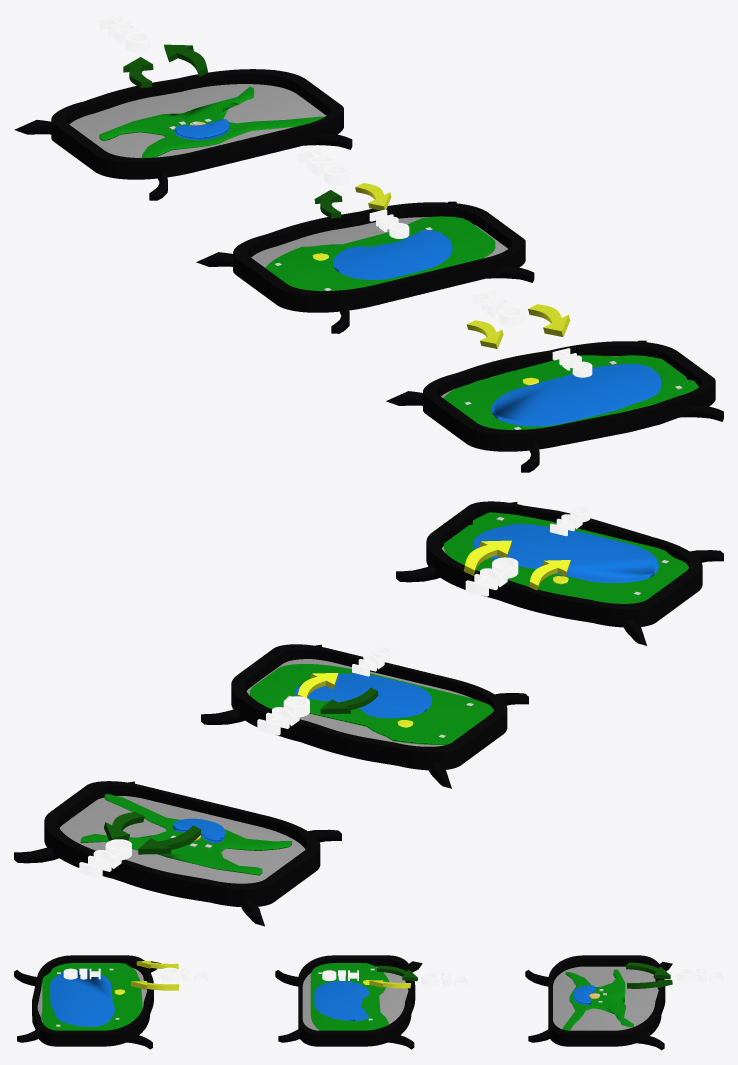
Rendered from plantcell.gltf.
3 renders of one model, top to bottom at view 1: azimuth 30°, elevation 25°; view 2: azimuth 150°, elevation 25°; view 3: azimuth 270°, elevation 25°, orthographic. The views are drawn at different scales.
Visible parts, largest first — view 1: Base, Base.001, Base.002, Base 2, Blue.002, Green.001, Green.002, Green, Blue, Base 2.002, Text, Text.001 (+4 smaller); view 2: Base, Base.001, Base.002, Base 2, Green.001, Blue.002, Green.002, Green, Blue, Base 2.002, Text.004, Text.001 (+8 smaller); view 3: Base 2, Base, Base.002, Base.001, Green.002, Blue.002, Green.001, Blue, Green, Base 2.002, Text.004, Text (+20 smaller).
Part boxes in pixels (x1,y1,x2,y2): Base: (51, 69, 343, 179); Base.001: (233, 202, 525, 312); Base.002: (423, 341, 715, 451); Base 2: (69, 84, 326, 157); Blue.002: (491, 364, 661, 426); Green.001: (265, 216, 495, 290); Green.002: (443, 355, 698, 429); Green: (99, 86, 324, 157); Blue: (333, 230, 452, 279); Base 2.002: (251, 217, 507, 267); Text: (99, 14, 150, 52); Text.001: (298, 147, 348, 185); Base: (44, 781, 320, 907); Base.001: (231, 644, 507, 770); Base.002: (426, 501, 702, 627); Base 2: (59, 796, 305, 883); Green.001: (250, 664, 493, 744); Blue.002: (473, 524, 658, 582); Green.002: (444, 512, 688, 603); Green: (80, 793, 291, 875); Blue: (294, 673, 431, 718); Base 2.002: (246, 659, 472, 746); Text.004: (465, 557, 518, 596); Text.001: (257, 696, 309, 735); Base 2: (553, 966, 658, 1030); Base: (548, 955, 665, 1046); Base.002: (32, 955, 153, 1046); Base.001: (298, 955, 415, 1046); Green.002: (41, 963, 142, 1030); Blue.002: (50, 969, 114, 1026); Green.001: (310, 963, 389, 1030); Blue: (314, 981, 368, 1020); Green: (562, 969, 633, 1030); Base 2.002: (302, 966, 408, 1030); Text.004: (161, 967, 208, 981); Text: (676, 968, 723, 981).
Bounding box in the file's own units: 8.18 × 1.85 × 28.93.
